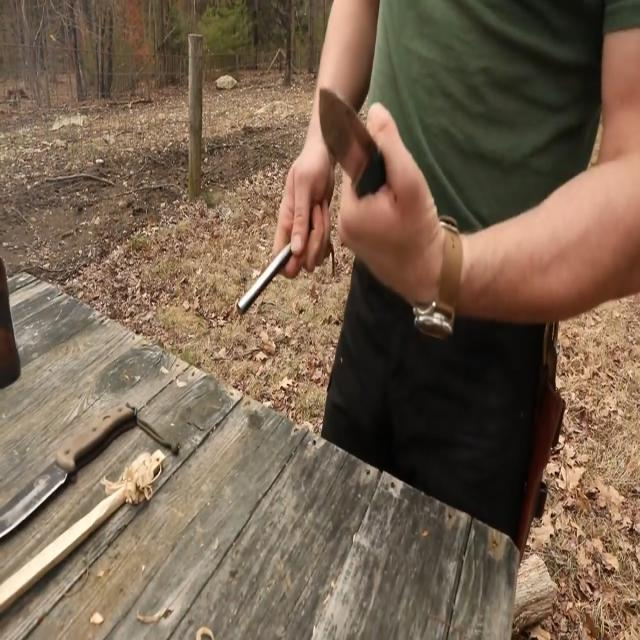knife: (1, 397, 142, 544), (317, 81, 378, 196)
